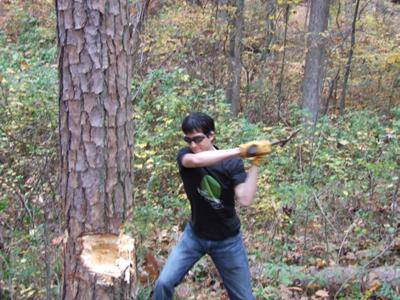person: (152, 112, 263, 300)
